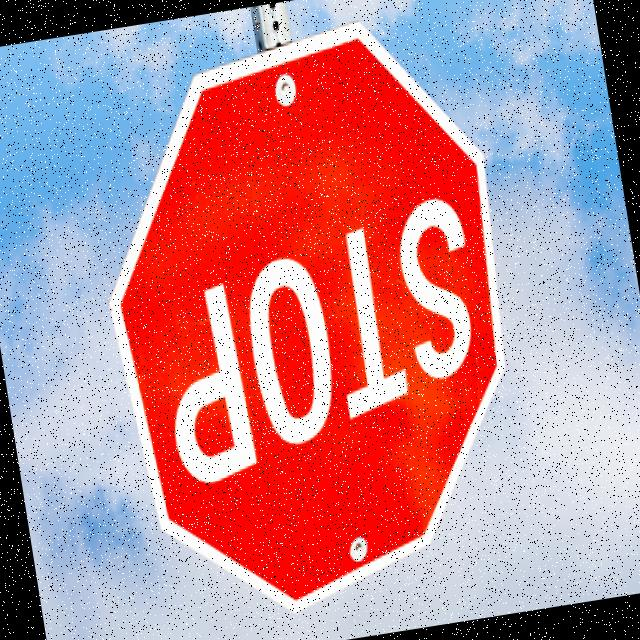stop: (44, 0, 569, 635)
